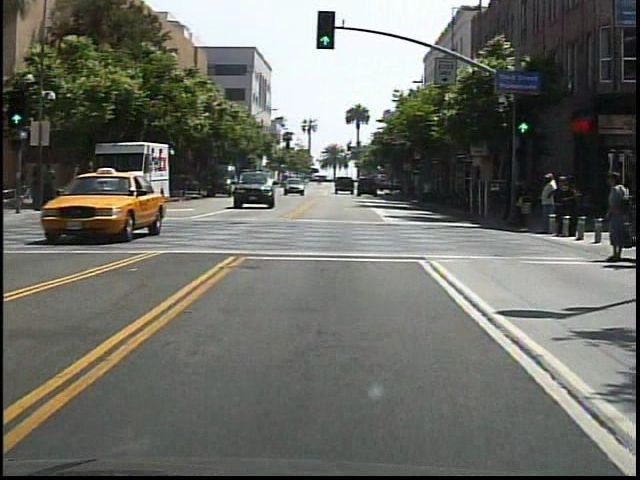person: (598, 170, 633, 263), (537, 166, 557, 237), (40, 161, 61, 210), (32, 166, 44, 212)
